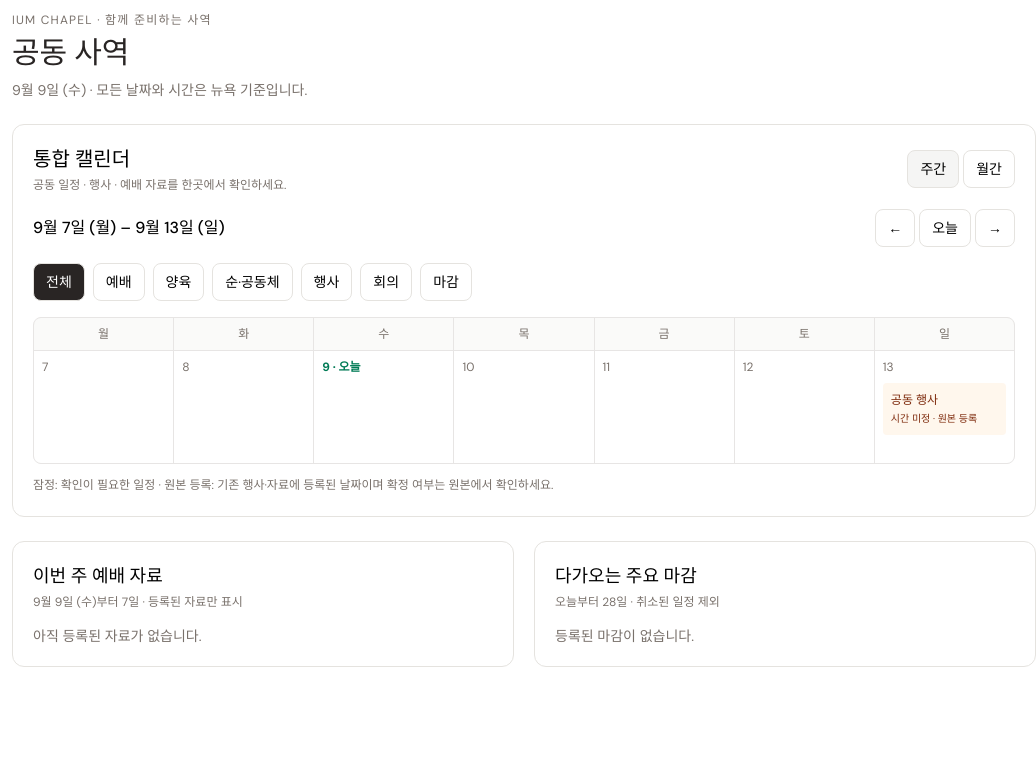
filters categories and opens schedule details
The width and height of the screenshot is (1036, 780).
Click the button "공동 행사 시간 미정 · 원본 등록" at (944, 409), box 883,383 -> 1006,435
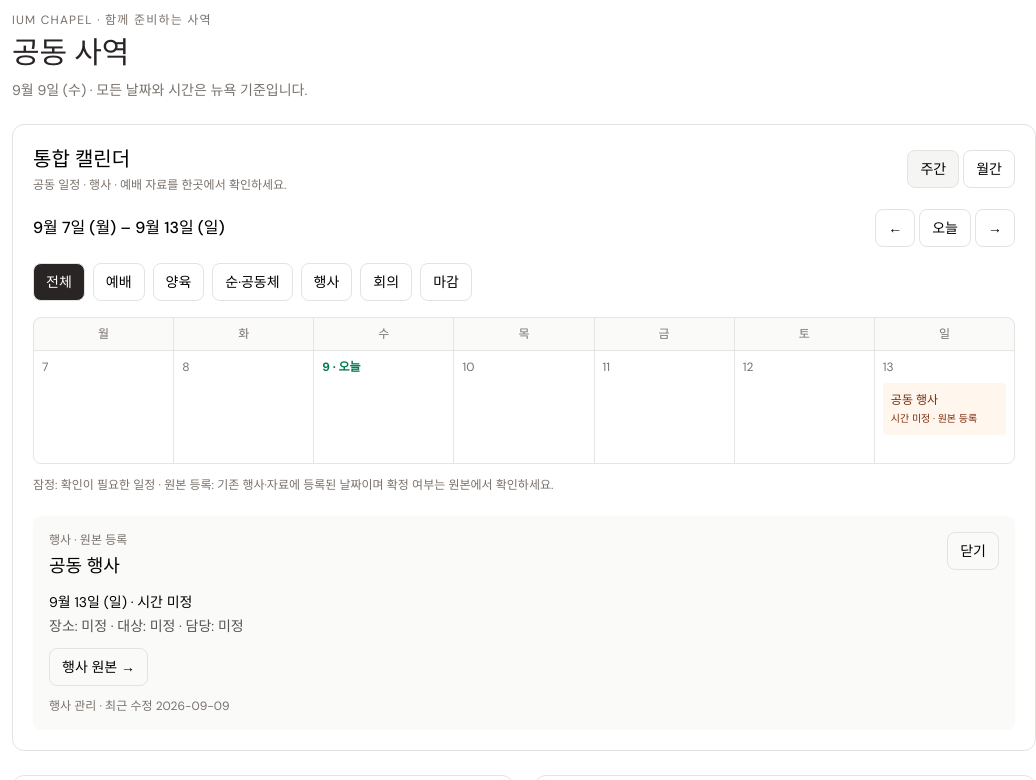
Now the element named "일정 상세" is shown, box 33,516 -> 1015,730
Click the button with aria-label "일정 상세 닫기" at (973, 550), box 947,532 -> 999,570
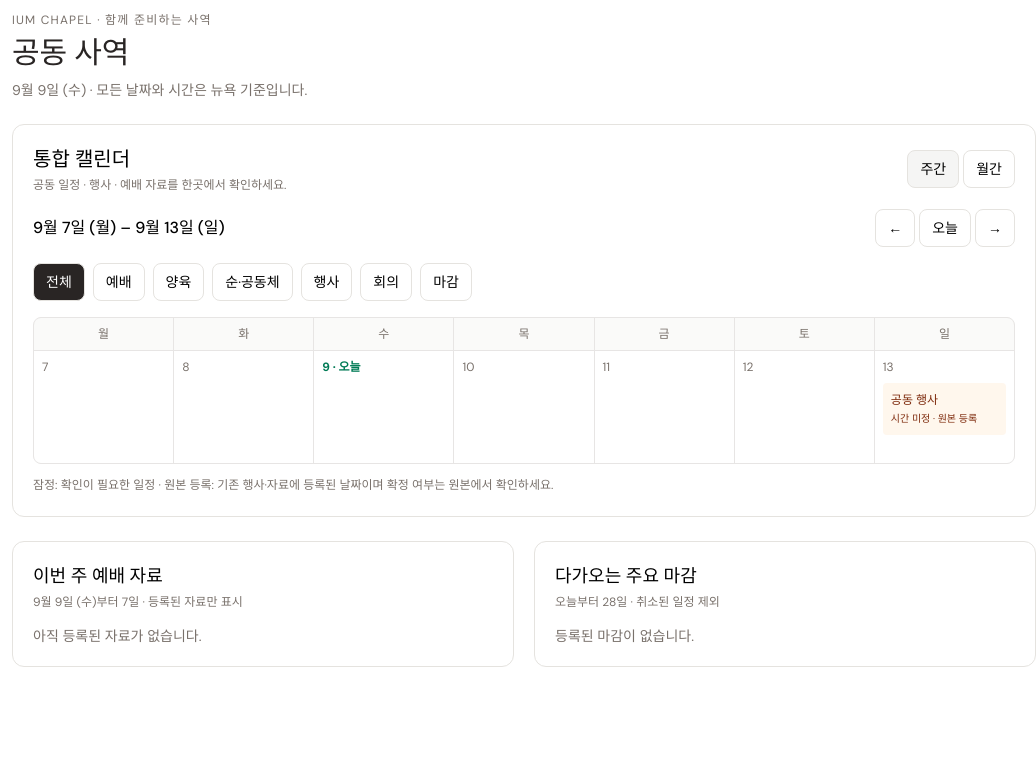
Click the button "예배" at (119, 282), box 93,263 -> 145,301
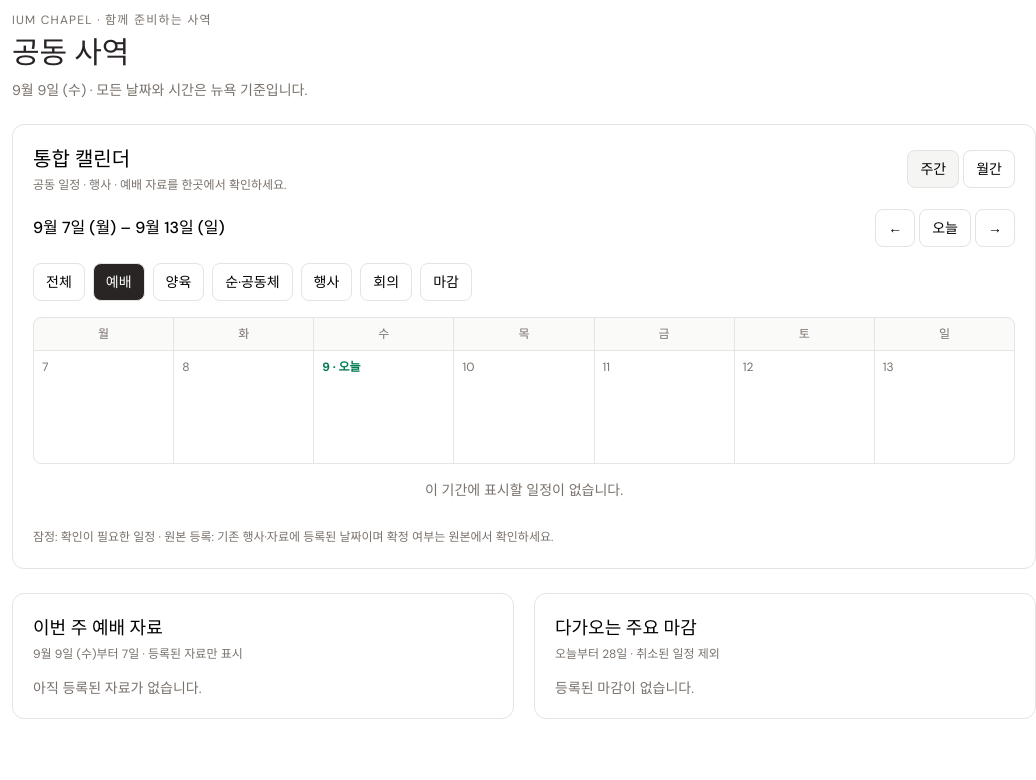
Now no buttons "공동 행사" are shown
Now the text "이 기간에 표시할 일정이 없습니다." is shown, box 425,481 -> 623,499
